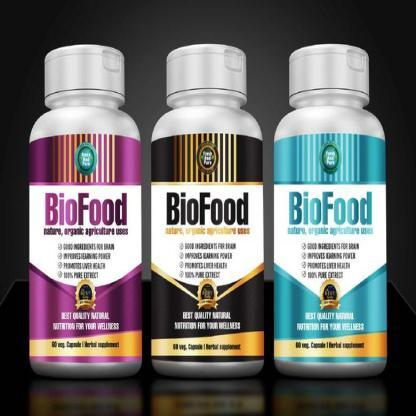jar: (28, 44, 141, 377), (150, 44, 263, 377), (273, 44, 386, 377)
